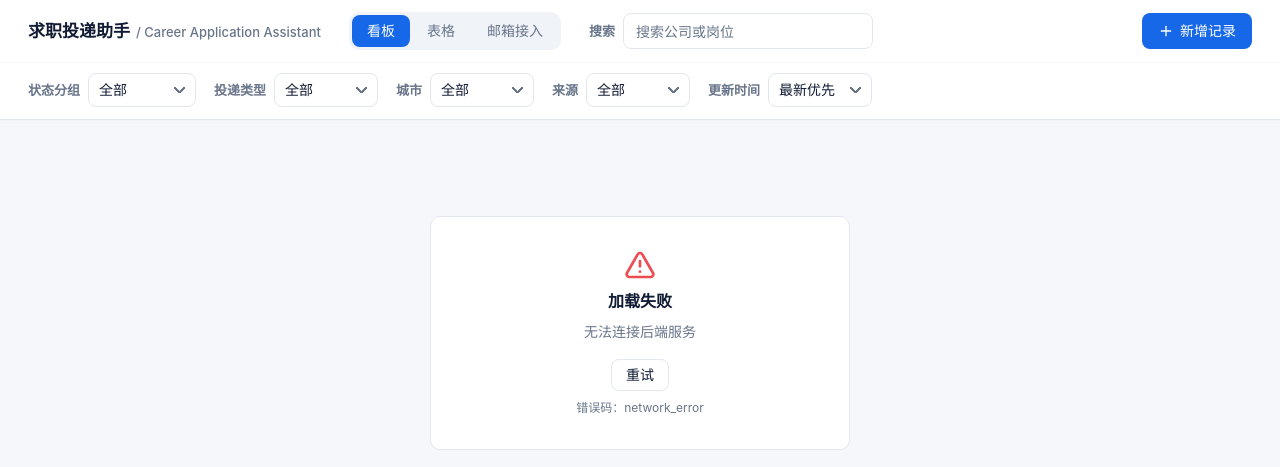
Scenario: App 壳 › API 失败显示错误状态，点击重试后恢复
Expected: the text "加载失败" is shown, [608,289,672,313]
Click the button with test id "error-retry" at (640, 375), box [611,359,669,391]
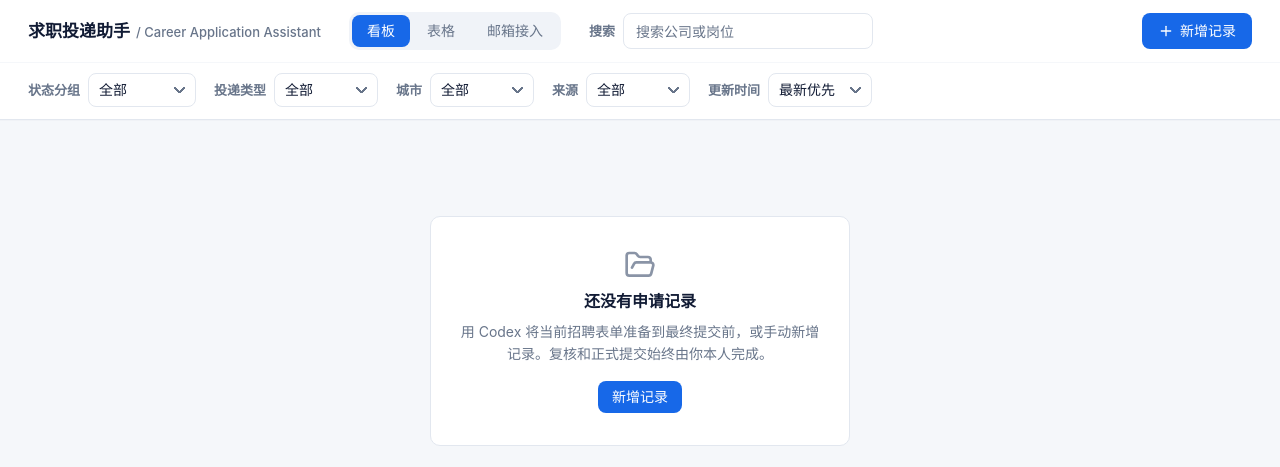
Expected: the text "还没有申请记录" is shown, [584,289,696,313]
